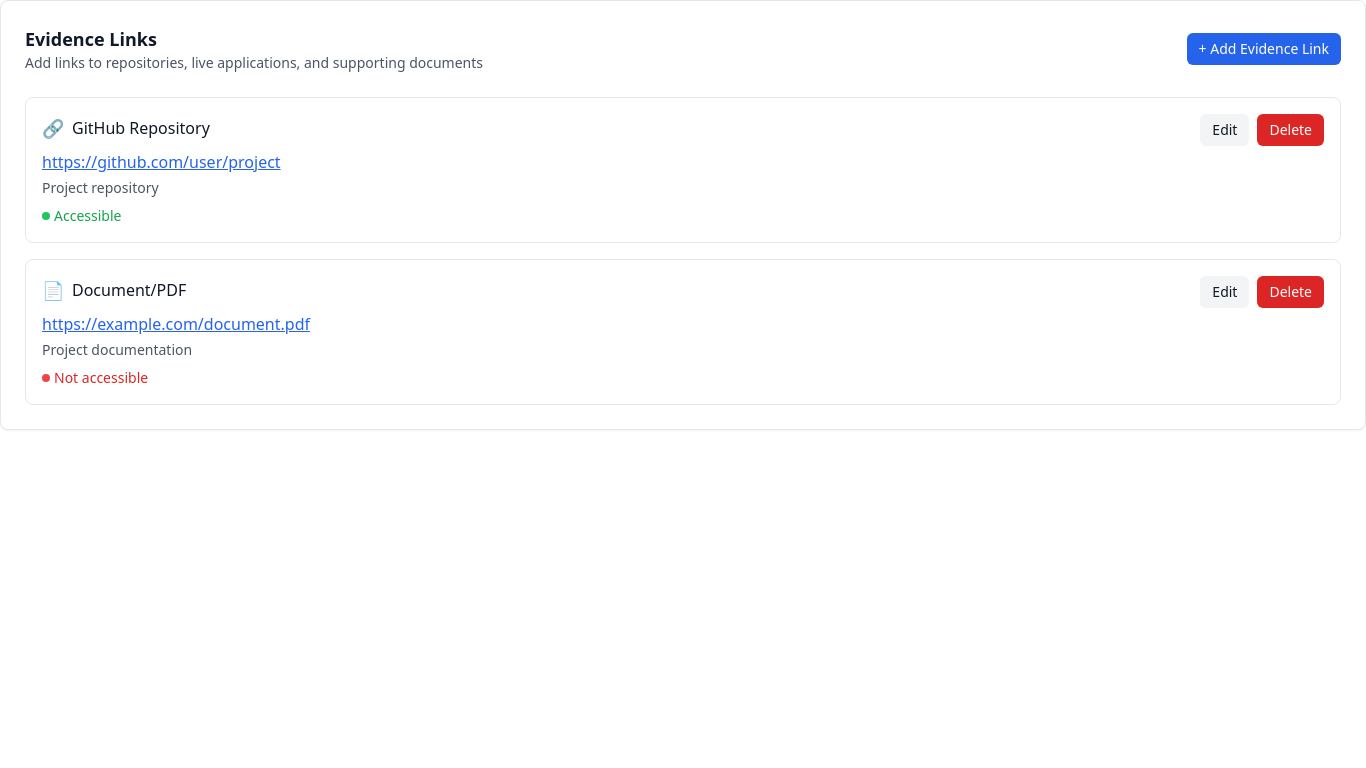
Test case: EvidenceLinkManager › opens edit modal for evidence link
# Click edit button for first link
Click the button "Edit" in the row of "GitHub Repository" at (1225, 130), box [1200,114,1250,146]
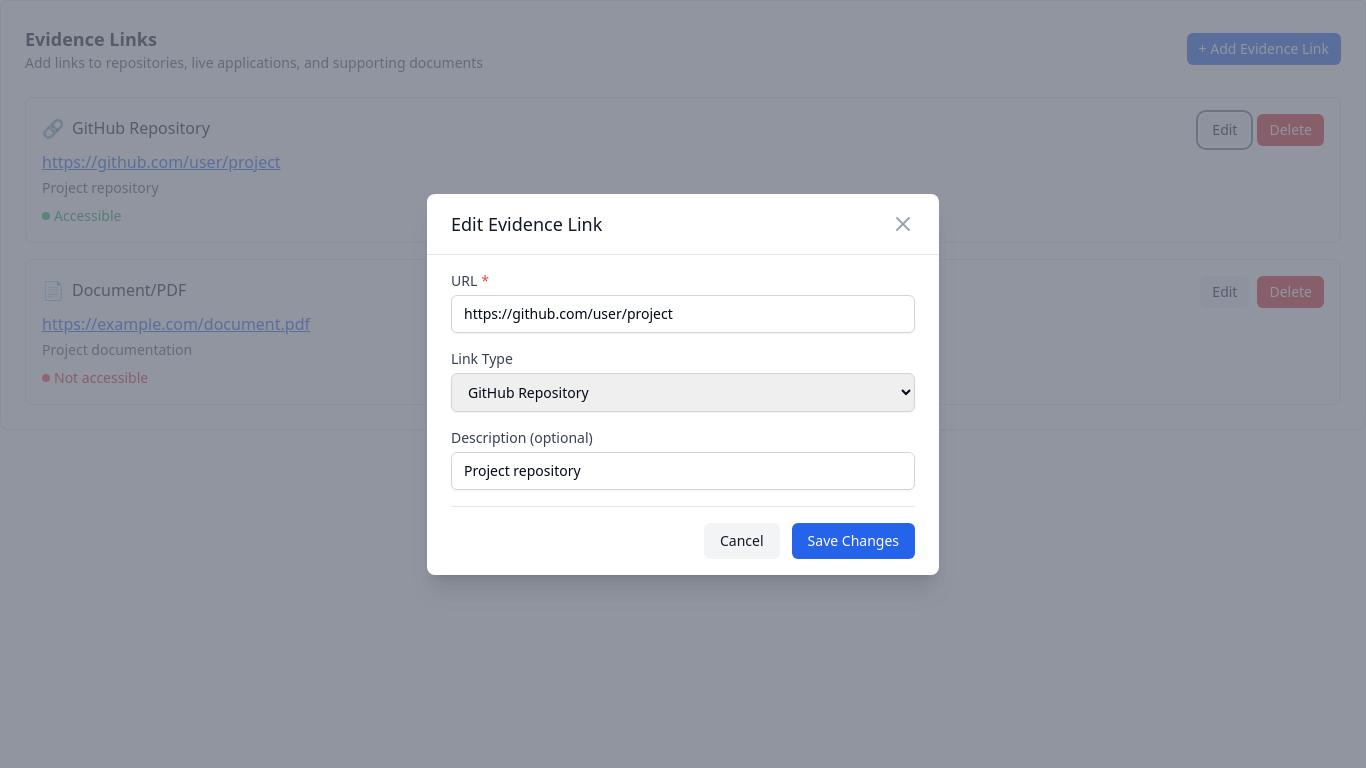
Now the heading "Edit Evidence Link" is shown, box [451,210,602,238]
Now the field showing "https://github.com/user/project" below "URL" is shown, box [451,294,915,332]
